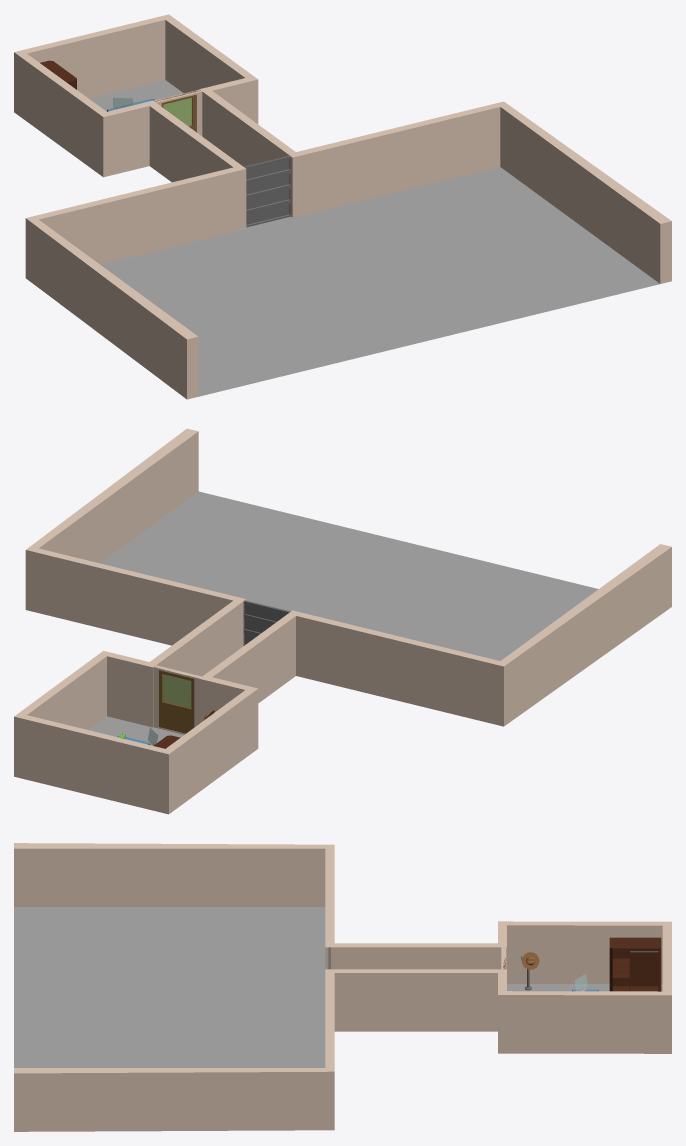
The model's file is сцена 1 офис.fbx.
The picture shows the model from 3 angles, top to bottom: view 1: azimuth 30°, elevation 25°; view 2: azimuth 150°, elevation 25°; view 3: azimuth 270°, elevation 25°; orthographic projection. The views are drawn at different scales.
Visible parts, largest first — view 1: Стены, Полы, Дверь гаражная, Дверь офисная; view 2: Стены, Полы, Дверь офисная, Дверь гаражная, Дверной проем; view 3: Стены, Полы, Шкаф.
Part boxes in pixels (<box>): Стены: <box>14,14,671,399</box>; Полы: <box>89,80,659,396</box>; Дверь гаражная: <box>244,155,290,227</box>; Дверь офисная: <box>155,90,200,131</box>; Стены: <box>14,428,671,814</box>; Полы: <box>88,491,598,743</box>; Дверь офисная: <box>154,666,194,733</box>; Дверь гаражная: <box>243,600,290,645</box>; Дверной проем: <box>153,665,201,734</box>; Стены: <box>14,843,671,1131</box>; Полы: <box>14,907,662,1067</box>; Шкаф: <box>609,937,661,991</box>.
Bounding box in the file's own units: 2100 × 250 × 2535.
